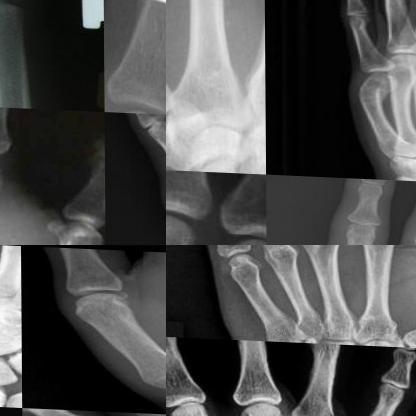fracture: (351, 73, 395, 112), (341, 308, 376, 339)
